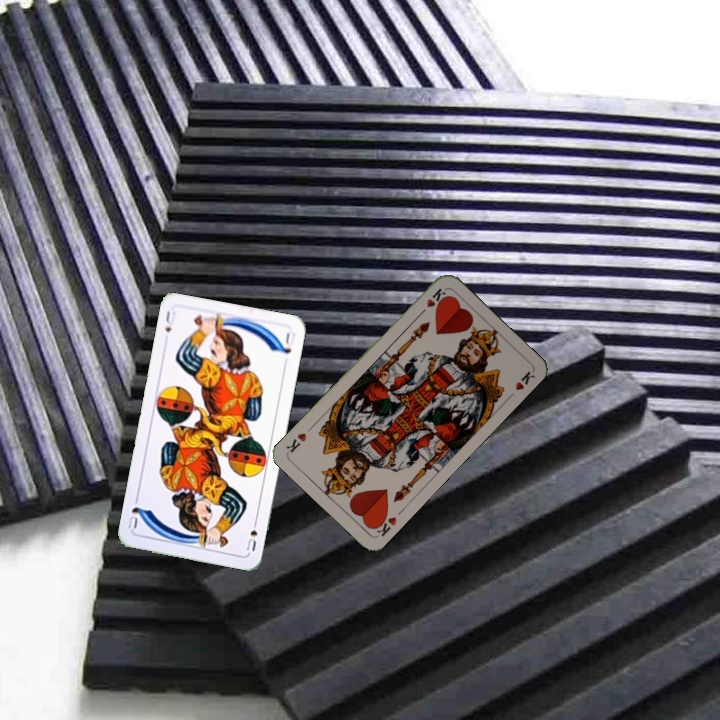HK: (415, 284, 449, 318), (368, 509, 399, 539)
SU: (242, 514, 260, 553), (161, 306, 178, 335)
